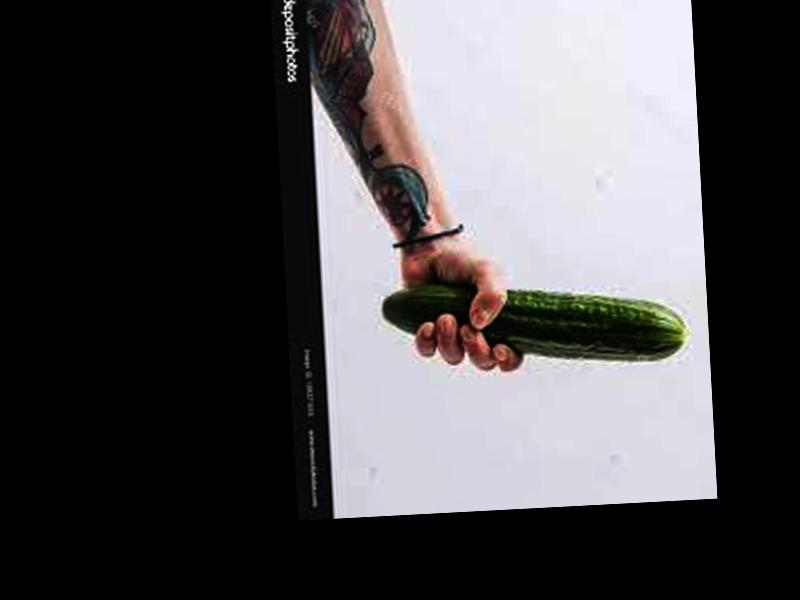Cucumber: (384, 272, 690, 375)
